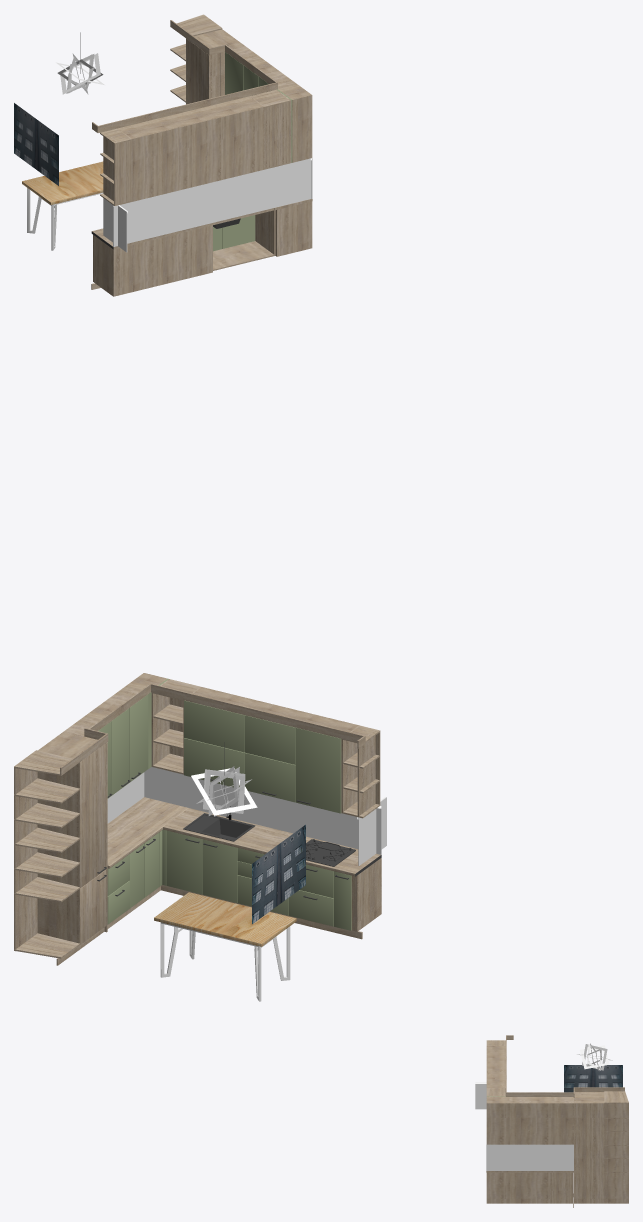
The model's file is kitchen.gltf.
3 views of the same model, one above another, from view 1: azimuth 30°, elevation 25°; view 2: azimuth 150°, elevation 25°; view 3: azimuth 270°, elevation 25° (orthographic). The views are drawn at different scales.
Visible parts, largest first — view 1: Kitchen, Kitchen Table, Kitchen Photo Mergasovsky Printing House, Kitchen Mobile Square; view 2: Kitchen, Kitchen Table, Kitchen Photo Mergasovsky Printing House, Kitchen Mobile Square; view 3: Kitchen, Kitchen Photo Mergasovsky Printing House, Kitchen Mobile Square.
Boxes of the visible parts, <box> form: Kitchen: <box>91,14,312,296</box>; Kitchen Table: <box>22,161,103,250</box>; Kitchen Photo Mergasovsky Printing House: <box>14,103,58,185</box>; Kitchen Mobile Square: <box>56,53,104,94</box>; Kitchen: <box>14,673,386,965</box>; Kitchen Table: <box>154,892,296,1001</box>; Kitchen Photo Mergasovsky Printing House: <box>252,824,305,924</box>; Kitchen Mobile Square: <box>191,766,257,816</box>; Kitchen: <box>475,1035,628,1207</box>; Kitchen Photo Mergasovsky Printing House: <box>564,1065,622,1092</box>; Kitchen Mobile Square: <box>577,1043,612,1070</box>.
Bounding box in the file's own units: 3.19 × 3 × 12.87.
